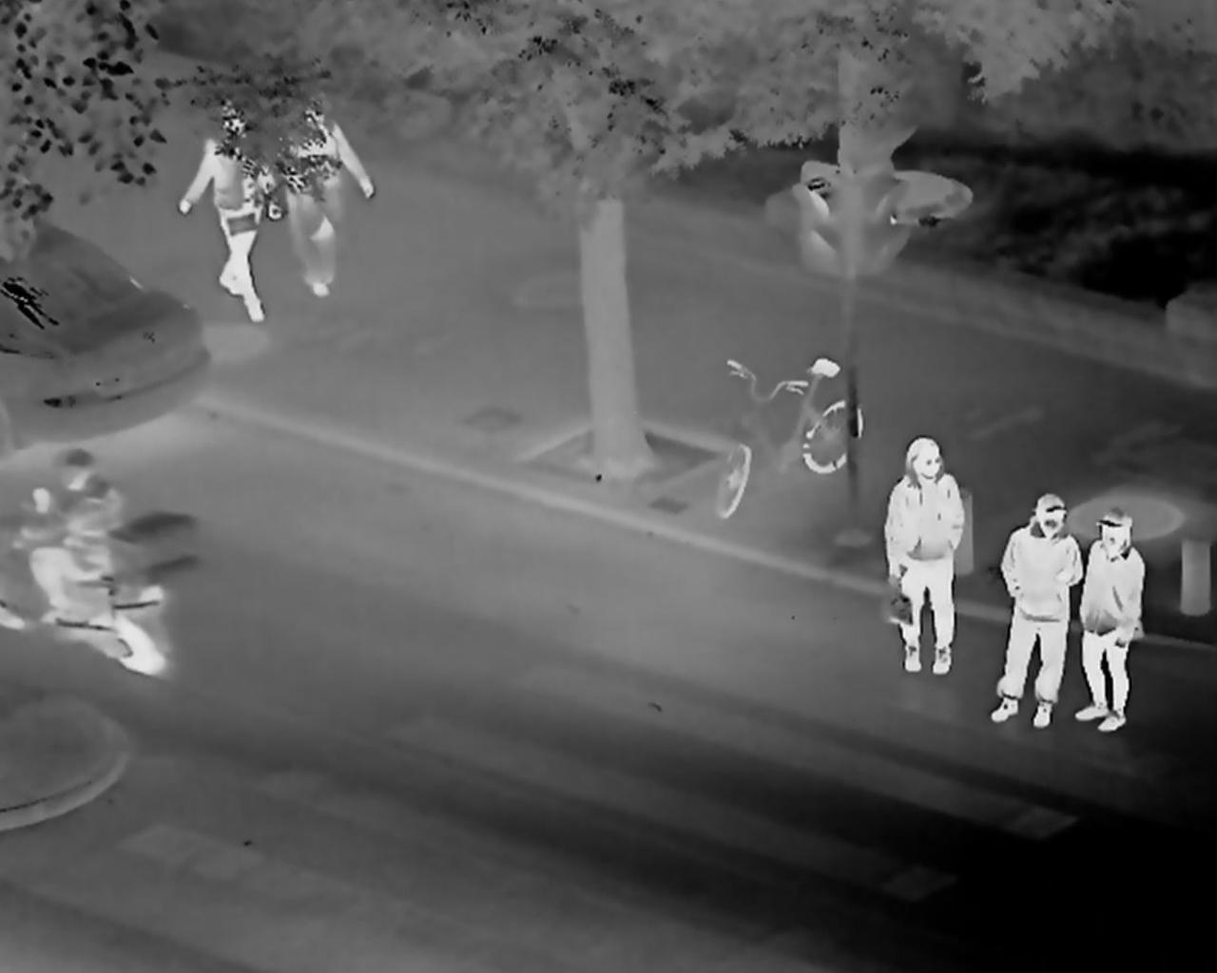person: (13, 446, 124, 635), (174, 101, 269, 320), (270, 96, 368, 296), (997, 494, 1078, 728), (881, 437, 960, 674), (1073, 506, 1143, 735)
